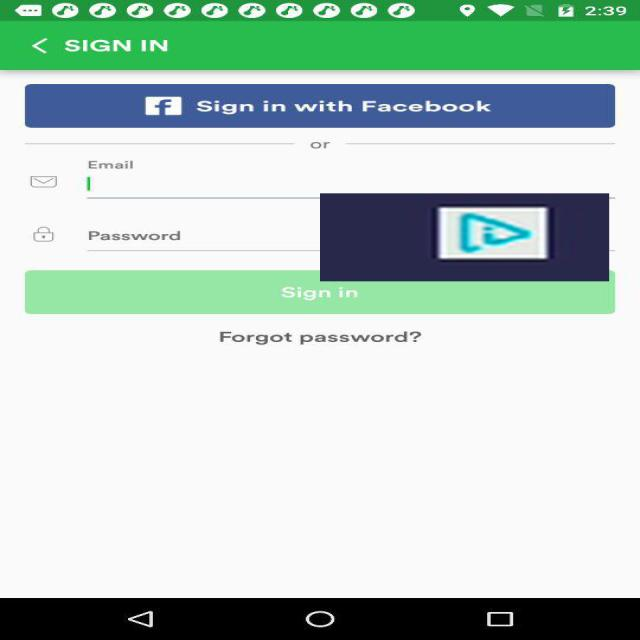sneaking: (320, 194, 609, 282)
